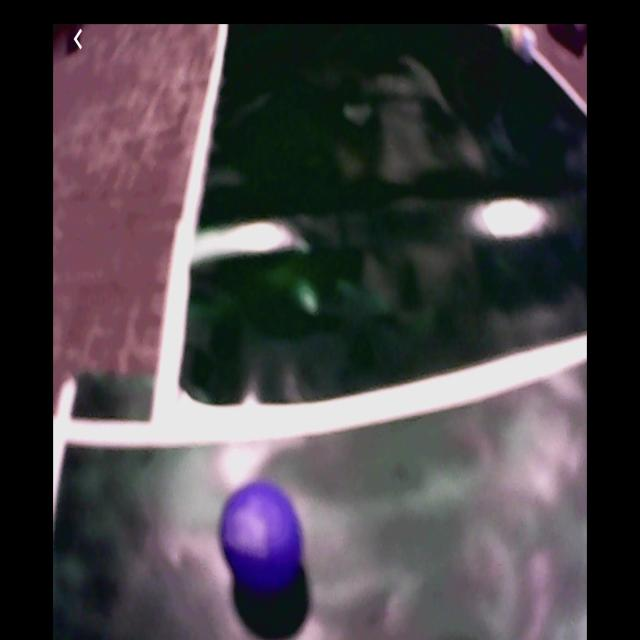ball: (218, 481, 301, 594)
